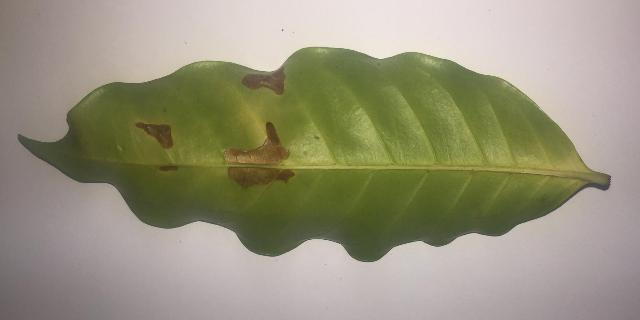cercospora: (223, 121, 295, 188), (242, 67, 285, 95), (135, 122, 173, 149), (158, 166, 178, 172)
